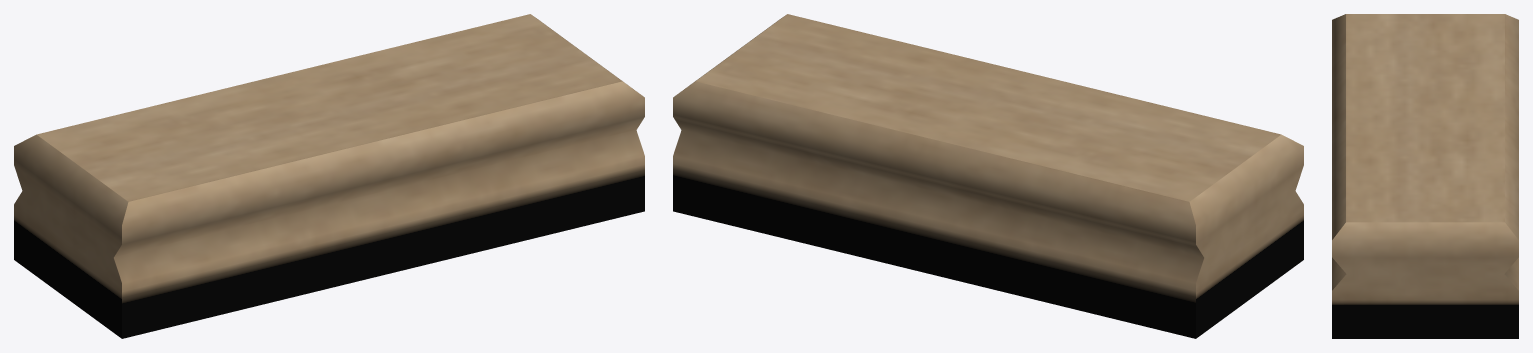
The model's file is Blackboard_Eraser.obj.
3 views of the same model, side by side, from view 1: azimuth 30°, elevation 25°; view 2: azimuth 150°, elevation 25°; view 3: azimuth 270°, elevation 25° (orthographic). The views are drawn at different scales.
Visible parts, largest first — view 1: Cube; view 2: Cube; view 3: Cube.
Part boxes in pixels (x1=…): Cube: x1=14, y1=14, x2=644, y2=338; Cube: x1=673, y1=14, x2=1303, y2=338; Cube: x1=1332, y1=14, x2=1518, y2=338.
Size of the model in its own units: 0.2277 by 0.0531 by 0.0815.
1 material, 1 textured.
